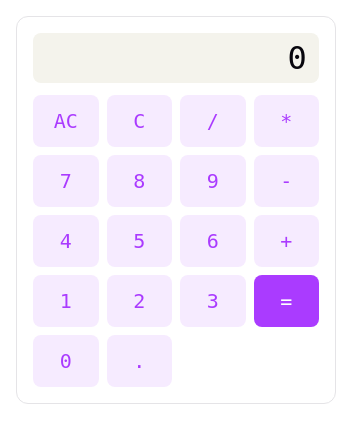
Calculator › computes 7 + 3 = 10
Click the button "7". click: [66, 181]
box: [33, 155, 98, 207]
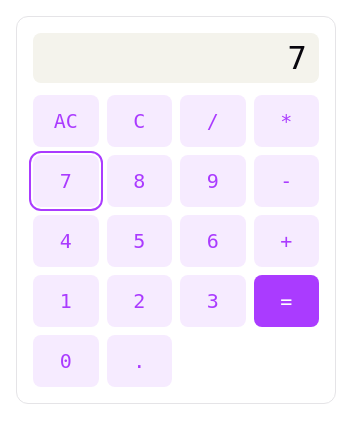
Click the button "+". click: [286, 241]
box: [254, 215, 319, 267]
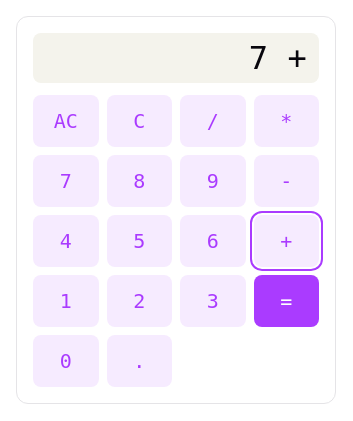
Click the button "3". click: [213, 301]
box: [180, 275, 246, 327]
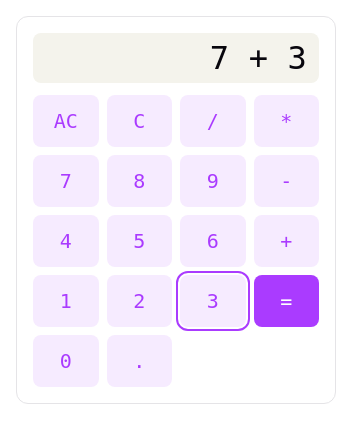
Click the button "=". click: [286, 301]
box: [254, 275, 319, 327]
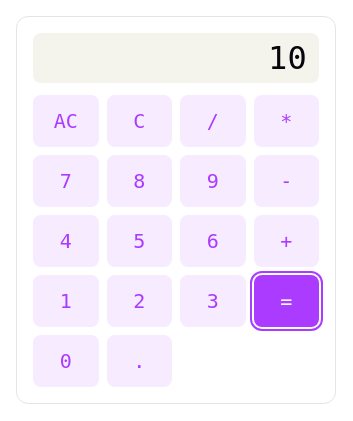
Expected: the text with test id "calculator-display" reads "10", [268, 39, 307, 77]
